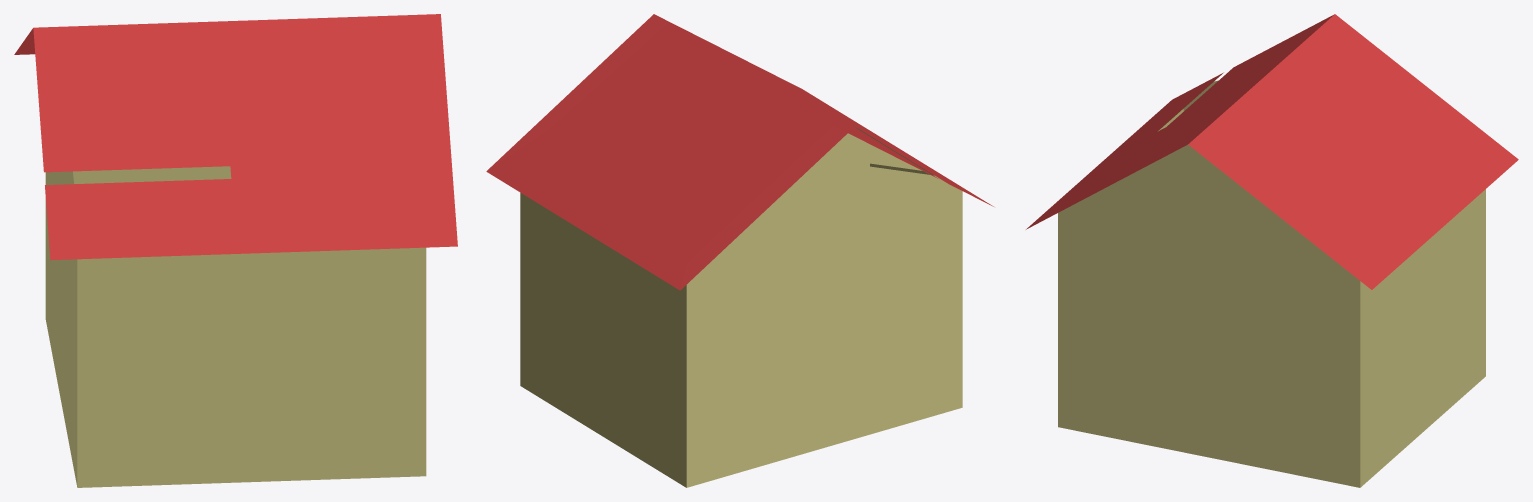
The picture shows the model from 3 angles, left to right: view 1: azimuth 30°, elevation 25°; view 2: azimuth 150°, elevation 25°; view 3: azimuth 270°, elevation 25°; orthographic projection. The views are drawn at different scales.
Size of the model in its own units: 14.43 by 15.04 by 10.76.
